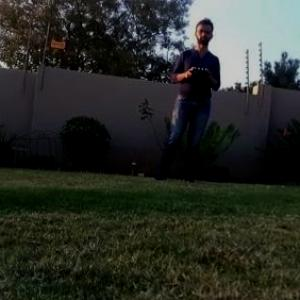follow: (149, 10, 223, 185)
